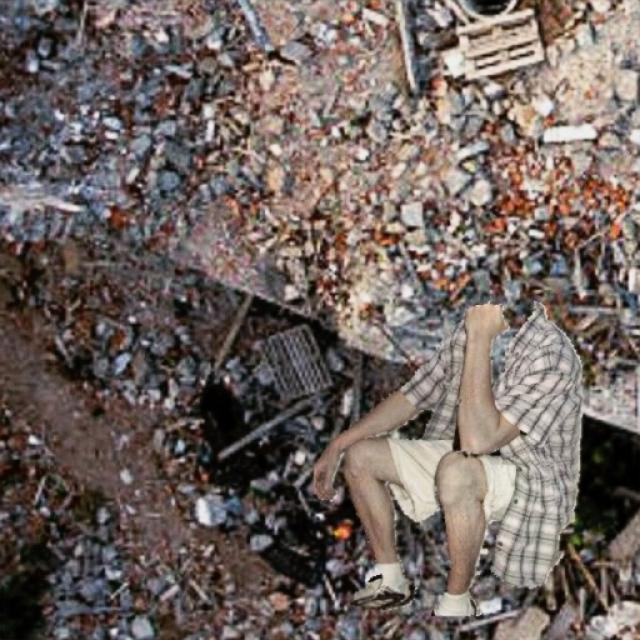Person in Rubble: (314, 301, 582, 615)
